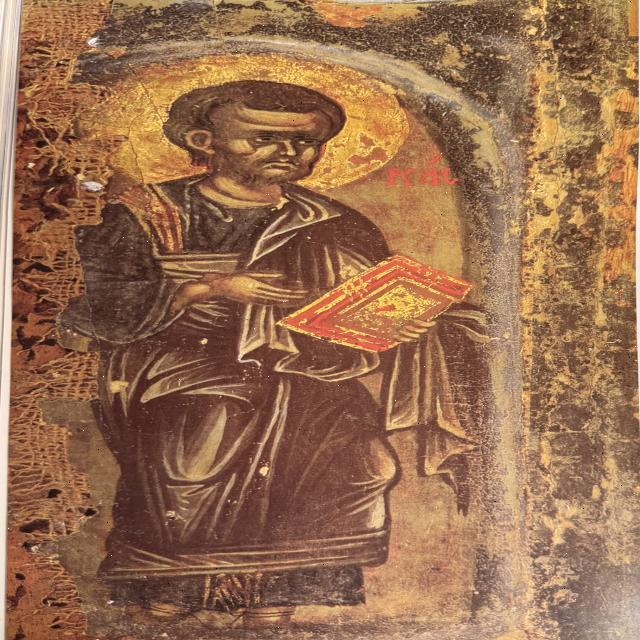aura: (76, 50, 415, 200)
book: (275, 257, 478, 353)
saint: (54, 49, 548, 608)
